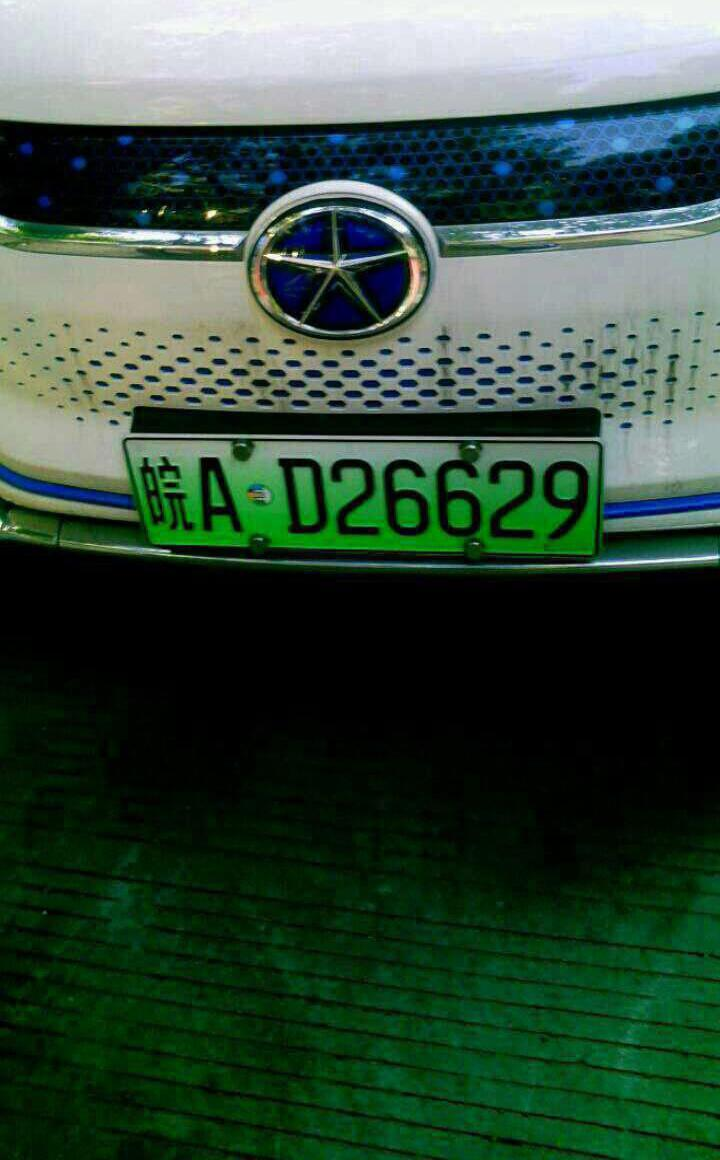car_id: (131, 428, 599, 571)
